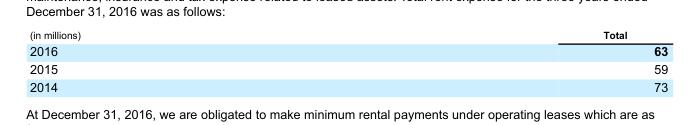table: (28, 29, 667, 93)
table column: (341, 29, 667, 93), (28, 29, 341, 93)
table column header: (28, 29, 667, 42)
table row: (28, 59, 667, 77), (28, 42, 667, 59), (28, 77, 667, 93), (28, 29, 667, 42)
